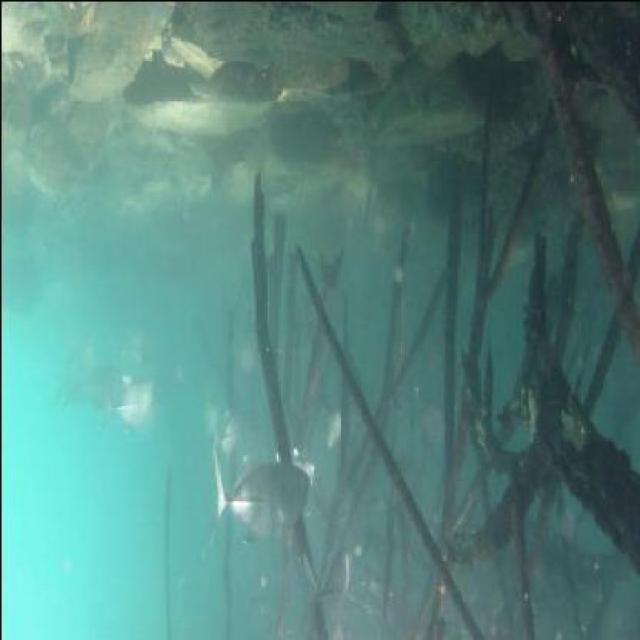Caranx_sexfasciatus_juvenile: (206, 432, 312, 540), (50, 347, 118, 418), (304, 540, 358, 615), (100, 372, 162, 428), (206, 411, 245, 463)
